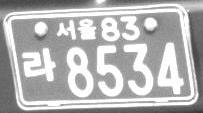3: (124, 42, 154, 97), (121, 14, 141, 41)
4: (156, 41, 184, 95)
5: (95, 43, 124, 98)
8: (64, 45, 95, 99), (99, 15, 121, 42)
라: (21, 46, 57, 82)
서울_O: (56, 17, 97, 41)
